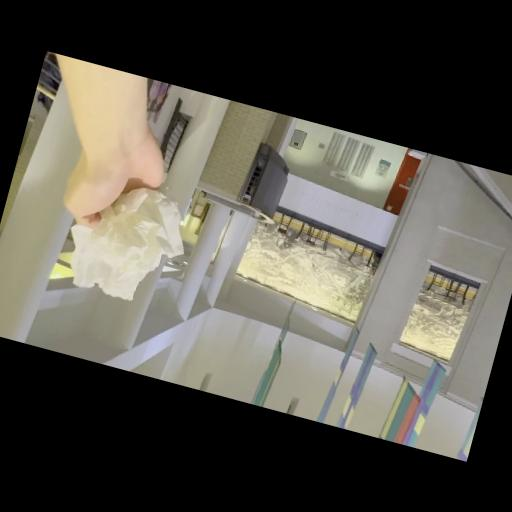napkin: (52, 168, 198, 314)
